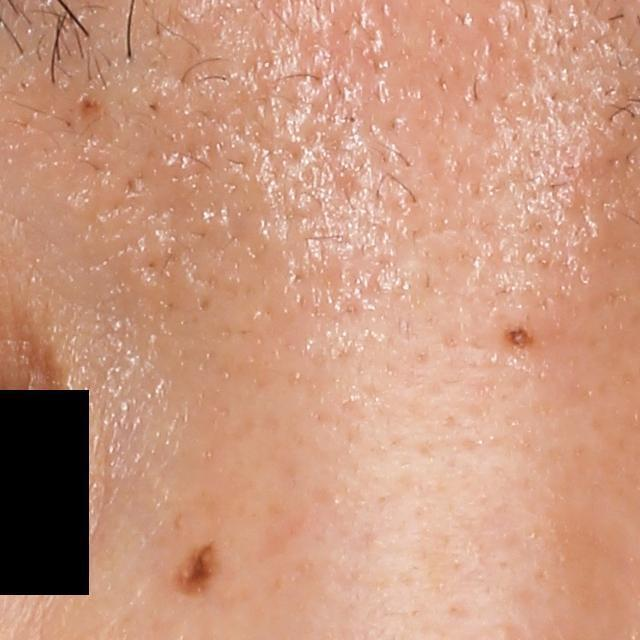melasma: (168, 545, 225, 601)
